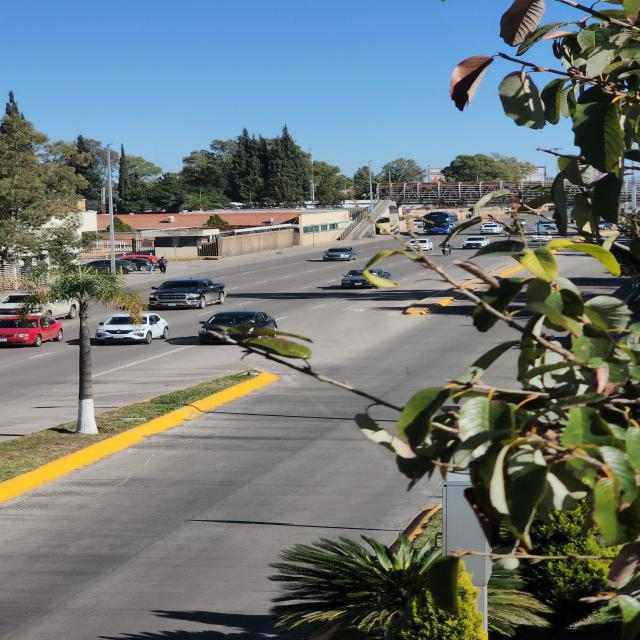Auto: (0, 297, 61, 347), (197, 308, 276, 344), (150, 278, 228, 312), (97, 312, 155, 344), (137, 312, 172, 341), (119, 255, 156, 272), (343, 270, 371, 290), (324, 245, 357, 260), (463, 235, 489, 249), (415, 239, 432, 251)
Peaton: (158, 256, 168, 275)
